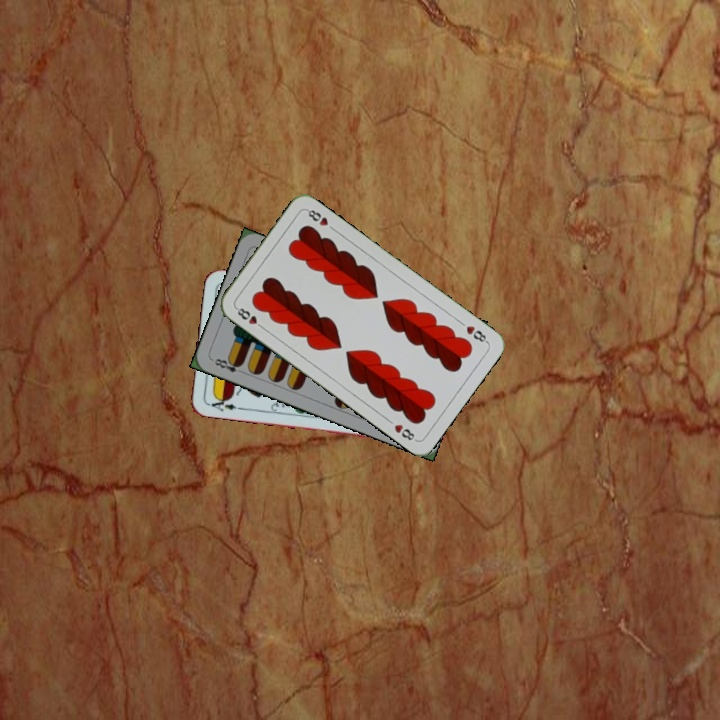E8: (210, 354, 247, 376)
EA: (203, 393, 244, 414)
H8: (232, 303, 267, 332), (462, 321, 490, 345)
